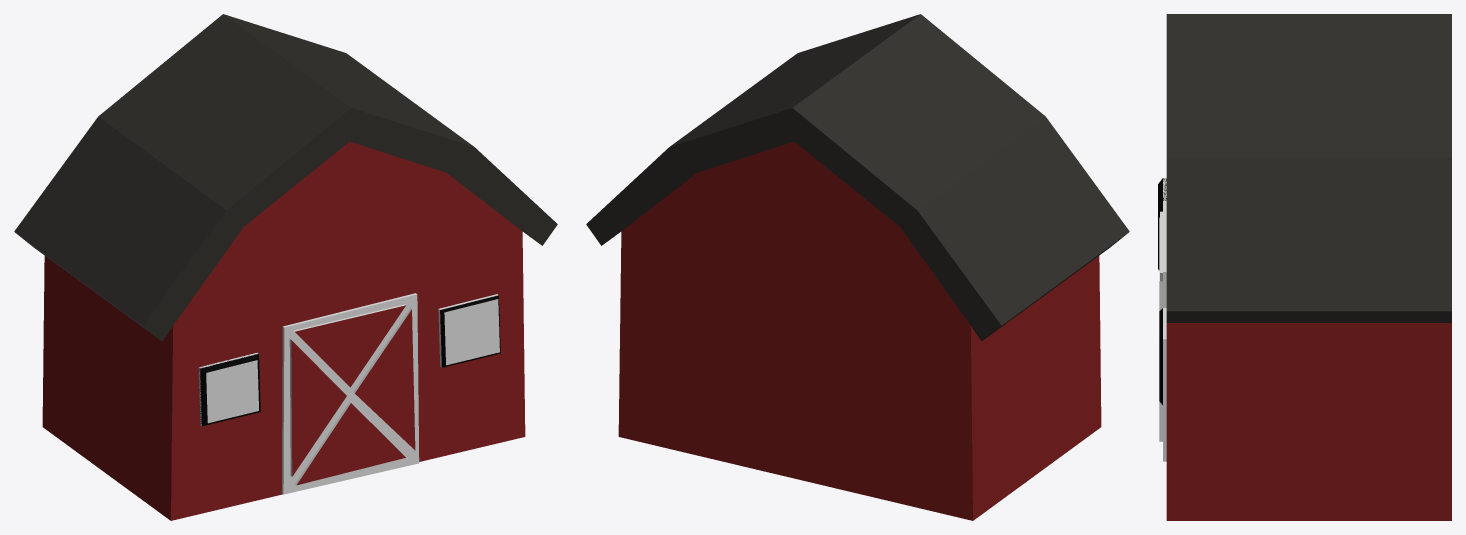
The model's file is Farm House.fbx.
3 views of the same model, side by side, from view 1: azimuth 30°, elevation 25°; view 2: azimuth 150°, elevation 25°; view 3: azimuth 270°, elevation 25° (orthographic). The views are drawn at different scales.
Visible parts, largest first — view 1: Cube; view 2: Cube; view 3: Cube.
Part boxes in pixels (x1=…): Cube: x1=14, y1=14, x2=557, y2=520; Cube: x1=586, y1=14, x2=1129, y2=520; Cube: x1=1158, y1=14, x2=1451, y2=520.
Size of the model in its own units: 608 by 520 by 335.
